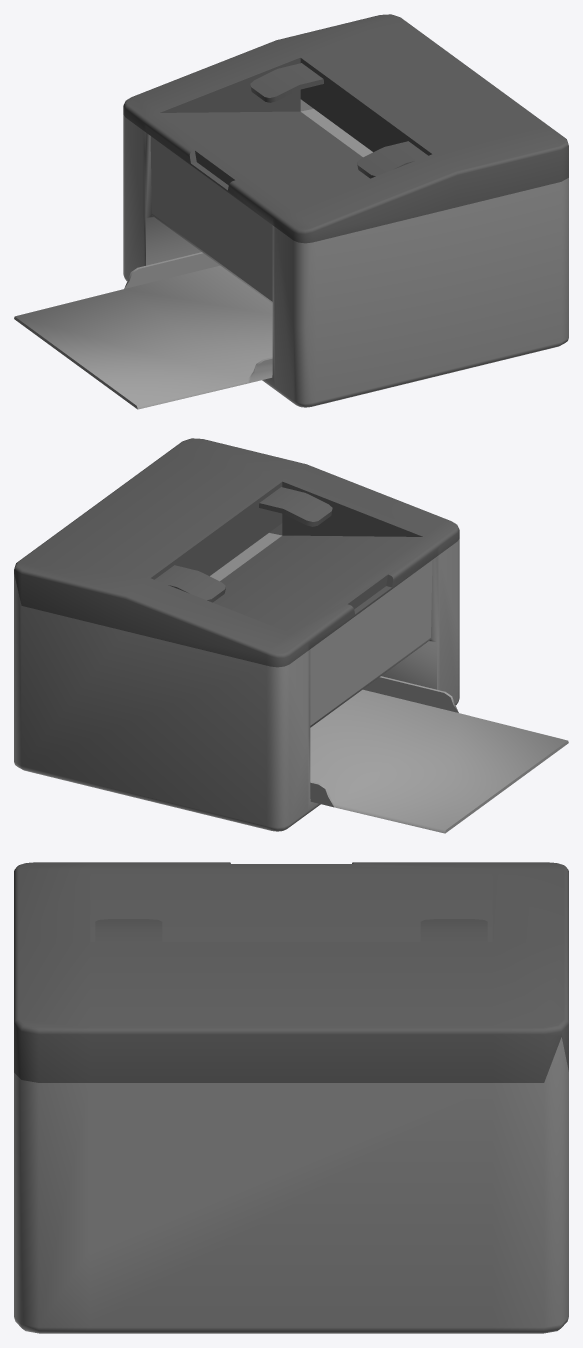
File: Printer02.fbx
3 views of the same model, one above another, from view 1: azimuth 30°, elevation 25°; view 2: azimuth 150°, elevation 25°; view 3: azimuth 270°, elevation 25° (orthographic). The views are drawn at different scales.
Visible parts, largest first — view 1: Printer02; view 2: Printer02; view 3: Printer02.
Boxes of the visible parts, x1,y1,x2,y2 form: Printer02: (14,14,568,409); Printer02: (14,438,568,833); Printer02: (14,862,568,1333).
Bounding box in the file's own units: 0.3812 × 0.294 × 0.1795.
